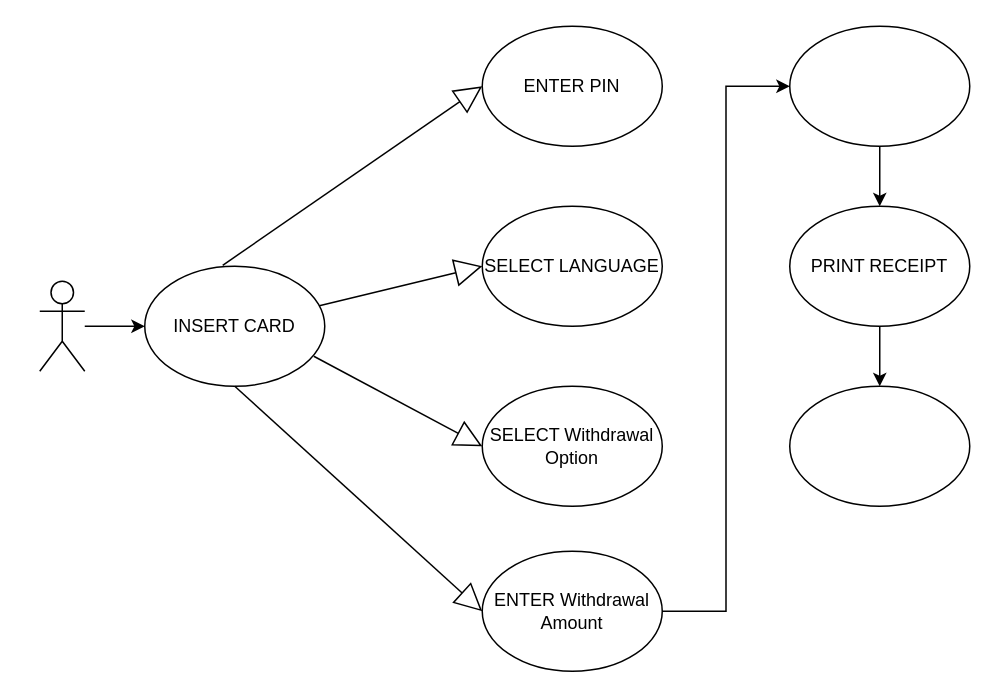
Some shapes in this 996 by 698 pixel diagram are drawn without their labels. Here are the shapes that lost their labels. From the top down, the box of each, then its label:
(788, 25, 970, 146): DISPENSE CASH
(38, 280, 85, 371): customer
(788, 385, 970, 506): END TRANSACTION
